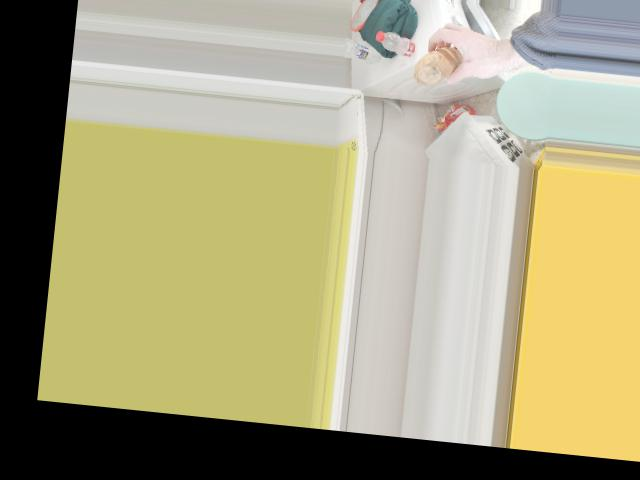sweet_potato: (411, 44, 463, 87)
